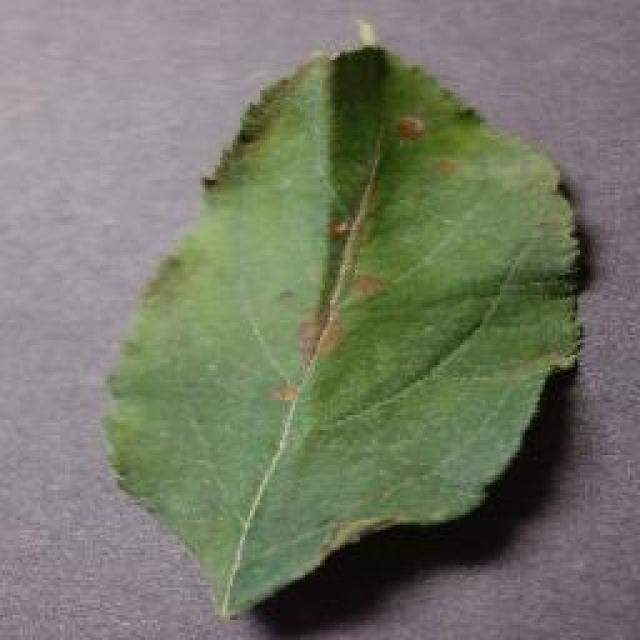apple cedar apple rust: (100, 22, 588, 620)
